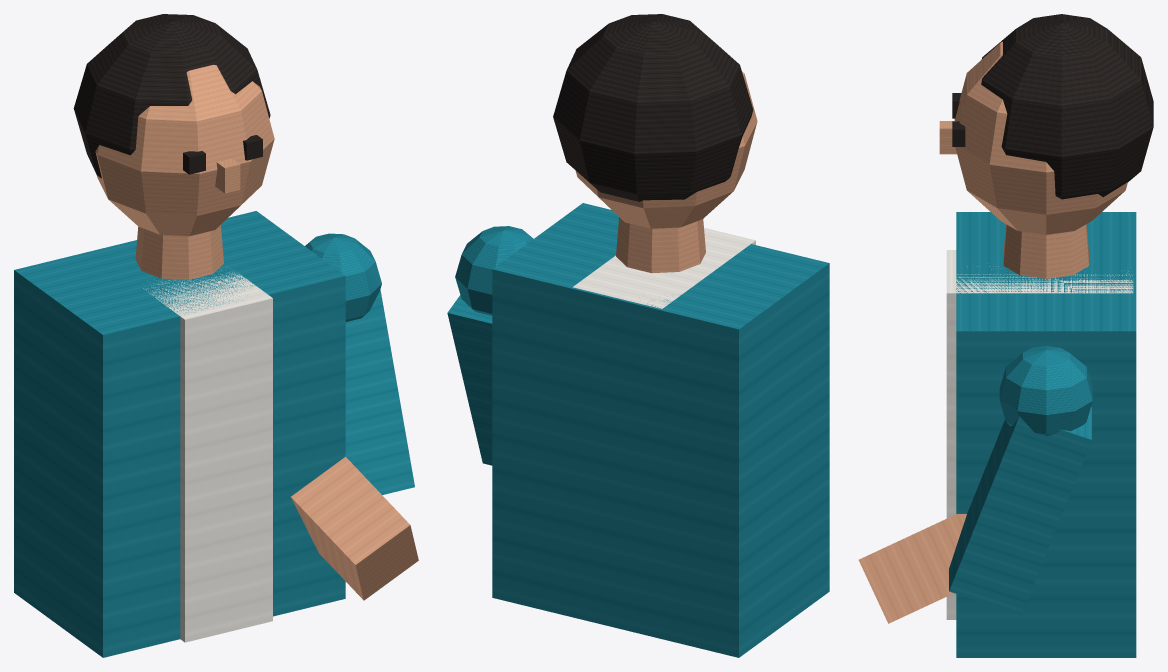
The model's file is flor_torso.obj.
3 renders of one model, left to right at view 1: azimuth 30°, elevation 25°; view 2: azimuth 150°, elevation 25°; view 3: azimuth 270°, elevation 25°, orthographic.
Visible parts, largest first — view 1: flor_torso; view 2: flor_torso; view 3: flor_torso.
Part boxes in pixels (x1,y1,x2,y2): flor_torso: (14, 14, 418, 657); flor_torso: (447, 14, 829, 657); flor_torso: (858, 14, 1153, 657).
Size of the model in its own units: 0.288 by 0.493 by 0.2293.
Materials: 1 (1 with a texture image).
